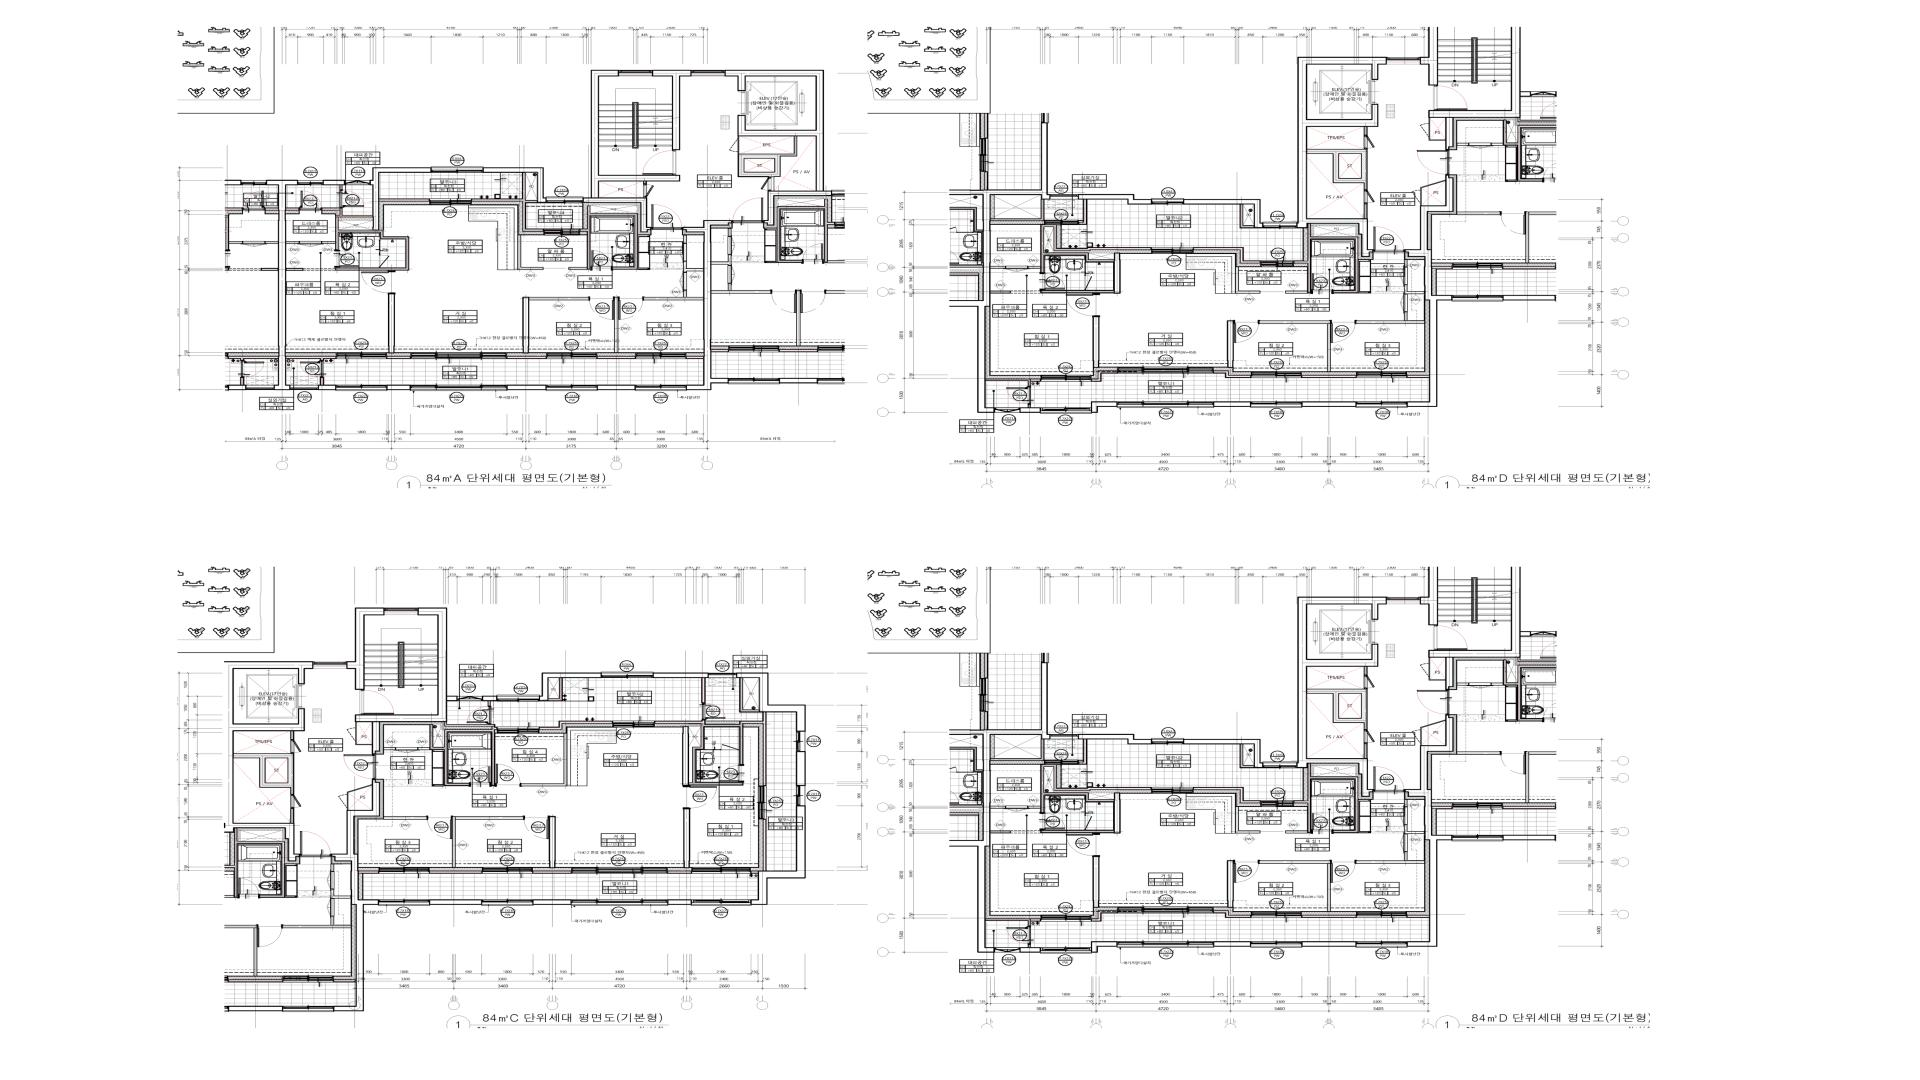door: (1433, 625, 1468, 650), (642, 150, 676, 175), (683, 785, 717, 810), (360, 690, 394, 715), (651, 204, 683, 231), (343, 754, 376, 779), (361, 270, 396, 294), (1433, 86, 1468, 109), (1374, 766, 1404, 793), (1067, 833, 1100, 857), (1374, 227, 1404, 252), (1067, 294, 1100, 316), (617, 297, 645, 320), (1331, 860, 1357, 884), (1234, 860, 1259, 884), (589, 297, 615, 320), (1234, 320, 1259, 344), (427, 816, 452, 840), (496, 764, 521, 787), (1331, 320, 1357, 343), (524, 816, 549, 839), (591, 251, 613, 272), (299, 190, 322, 211), (1311, 273, 1333, 294), (469, 766, 492, 787), (1006, 926, 1031, 944), (1006, 386, 1031, 405), (465, 705, 491, 724), (1039, 812, 1065, 829), (1039, 273, 1065, 290), (1311, 814, 1333, 833), (339, 190, 364, 207), (334, 251, 359, 268), (719, 765, 744, 782), (299, 361, 324, 377), (702, 704, 725, 720), (729, 136, 740, 154), (1364, 674, 1375, 688), (1364, 729, 1375, 744), (1364, 190, 1375, 204), (1364, 135, 1375, 149), (290, 794, 302, 808), (644, 182, 654, 198), (1006, 806, 1029, 812), (396, 746, 418, 753), (378, 255, 389, 268), (290, 740, 301, 753), (720, 744, 738, 750), (299, 241, 322, 247), (1006, 266, 1029, 272), (1084, 815, 1092, 829), (1084, 276, 1092, 290)
wall: (1298, 596, 1387, 796), (1298, 57, 1387, 257), (224, 661, 314, 861), (725, 70, 832, 225), (977, 731, 1051, 953), (977, 190, 1051, 413), (583, 70, 680, 232), (355, 608, 458, 754), (1428, 543, 1522, 690), (1428, 4, 1522, 150), (1404, 174, 1453, 407), (1404, 715, 1453, 947), (683, 220, 733, 390), (654, 713, 766, 786), (266, 179, 298, 390), (331, 779, 380, 905), (750, 806, 806, 905), (1040, 224, 1151, 273), (1040, 765, 1151, 812), (1294, 764, 1358, 833), (1294, 224, 1358, 294), (471, 173, 545, 232), (430, 721, 497, 786), (736, 673, 806, 732), (369, 167, 431, 231), (335, 218, 409, 270), (522, 297, 589, 353), (580, 206, 638, 269), (452, 816, 524, 868), (1259, 861, 1331, 913), (1259, 320, 1331, 372), (651, 70, 692, 150), (1420, 543, 1458, 625), (1420, 4, 1458, 86), (347, 608, 385, 690), (233, 753, 294, 795), (521, 733, 567, 786), (1184, 738, 1263, 769), (483, 167, 547, 203), (1184, 199, 1263, 228), (539, 673, 601, 702), (990, 199, 1044, 222), (1193, 247, 1261, 264), (990, 740, 1044, 761), (1193, 787, 1261, 803), (517, 235, 543, 270), (1356, 311, 1424, 324), (1077, 733, 1153, 745), (1356, 852, 1424, 864), (1077, 194, 1153, 204), (1236, 806, 1261, 833), (1236, 266, 1261, 294), (740, 678, 760, 712), (644, 290, 703, 301), (539, 721, 613, 729), (265, 758, 287, 783), (1358, 799, 1371, 833), (1358, 260, 1371, 294), (1092, 316, 1100, 368), (1092, 857, 1100, 907), (355, 723, 372, 745), (683, 810, 690, 868), (388, 294, 394, 352), (336, 207, 372, 218), (1302, 401, 1357, 407), (986, 919, 1031, 927), (986, 378, 1031, 386), (1240, 745, 1254, 769), (549, 678, 563, 702), (1240, 204, 1254, 228), (549, 816, 555, 868), (1091, 942, 1118, 953), (1091, 910, 1118, 922), (1091, 371, 1118, 382), (1091, 401, 1118, 413), (796, 752, 806, 786), (683, 727, 688, 785), (1213, 910, 1251, 918), (1213, 371, 1251, 378), (1040, 829, 1114, 833), (1302, 942, 1357, 947), (1040, 290, 1114, 294), (653, 673, 708, 678), (429, 899, 483, 905), (1114, 793, 1121, 833), (1114, 253, 1121, 294), (286, 356, 336, 361), (1228, 860, 1233, 907), (1228, 320, 1233, 368), (1079, 199, 1088, 225), (683, 261, 703, 273), (1079, 740, 1088, 765), (615, 297, 618, 353), (429, 870, 483, 874), (1404, 824, 1424, 835), (506, 385, 546, 390), (1213, 942, 1251, 947), (1213, 402, 1251, 407), (597, 385, 636, 390), (533, 899, 571, 905), (1404, 285, 1424, 294), (384, 816, 427, 820), (533, 870, 572, 874), (323, 179, 345, 186), (1302, 915, 1357, 918), (1302, 376, 1357, 378), (1019, 947, 1040, 953), (764, 819, 766, 870), (380, 199, 430, 202), (386, 385, 411, 390), (667, 899, 692, 905), (1019, 407, 1040, 413), (506, 356, 547, 359), (596, 356, 636, 359), (667, 870, 692, 874), (702, 678, 705, 703), (318, 385, 336, 390), (1286, 290, 1307, 294), (359, 870, 378, 874), (990, 290, 1010, 294), (483, 696, 497, 702), (322, 207, 340, 211), (386, 356, 411, 359), (1407, 915, 1429, 918), (1407, 376, 1429, 378), (290, 808, 294, 823), (1286, 831, 1307, 833), (990, 831, 1010, 833), (568, 268, 587, 270), (286, 268, 303, 270), (686, 356, 703, 359), (990, 806, 1006, 808), (1031, 378, 1042, 382), (990, 266, 1006, 269), (319, 377, 324, 385), (683, 235, 687, 244), (286, 241, 299, 244), (322, 241, 335, 244), (286, 208, 299, 211), (750, 870, 758, 874), (1029, 806, 1040, 808), (1404, 799, 1408, 807), (1404, 260, 1408, 268), (1029, 266, 1040, 269), (418, 748, 430, 750), (384, 748, 396, 750), (290, 732, 294, 740), (1031, 919, 1042, 922), (339, 186, 343, 190), (431, 785, 443, 786), (1079, 760, 1083, 762), (1027, 944, 1031, 947), (1027, 405, 1031, 407), (1079, 220, 1083, 222)
window: (410, 385, 506, 392), (572, 899, 667, 906), (572, 868, 667, 874), (1118, 942, 1213, 948), (1118, 907, 1213, 914), (411, 352, 506, 359), (1118, 367, 1213, 373), (1118, 402, 1213, 407), (1042, 375, 1091, 382), (692, 899, 750, 906), (692, 868, 750, 874), (546, 385, 597, 392), (431, 166, 483, 173), (378, 868, 429, 874), (1357, 911, 1407, 918), (1357, 942, 1407, 948), (1251, 911, 1302, 918), (1251, 942, 1302, 948), (336, 352, 386, 359), (636, 352, 686, 359), (636, 385, 686, 392), (1357, 372, 1407, 378), (1357, 401, 1407, 407), (1251, 372, 1302, 378), (1040, 407, 1091, 414), (378, 899, 429, 906), (483, 899, 533, 906), (1042, 915, 1091, 922), (547, 352, 596, 359), (497, 727, 539, 733), (497, 695, 539, 702), (1151, 787, 1193, 794), (1151, 248, 1193, 255), (601, 673, 653, 678), (545, 228, 579, 236), (613, 721, 654, 728), (430, 199, 471, 206), (483, 868, 533, 873), (1040, 948, 1091, 953), (336, 385, 386, 390), (1251, 402, 1302, 407), (758, 786, 766, 819), (1387, 57, 1420, 65), (547, 196, 583, 203), (1263, 762, 1298, 769), (1263, 222, 1298, 228), (385, 608, 418, 615), (1387, 597, 1420, 604), (1458, 543, 1491, 550), (1261, 800, 1294, 807), (1458, 4, 1491, 11), (1261, 261, 1294, 268), (314, 662, 345, 669), (796, 786, 806, 806), (796, 732, 806, 752), (1044, 760, 1079, 765), (1044, 220, 1079, 225), (1153, 738, 1183, 744), (1153, 199, 1183, 204), (290, 385, 318, 390), (709, 673, 736, 678), (1051, 735, 1077, 740), (994, 407, 1019, 413), (458, 696, 481, 702), (1051, 195, 1077, 199), (994, 948, 1019, 952), (298, 181, 323, 185), (345, 181, 369, 185)
